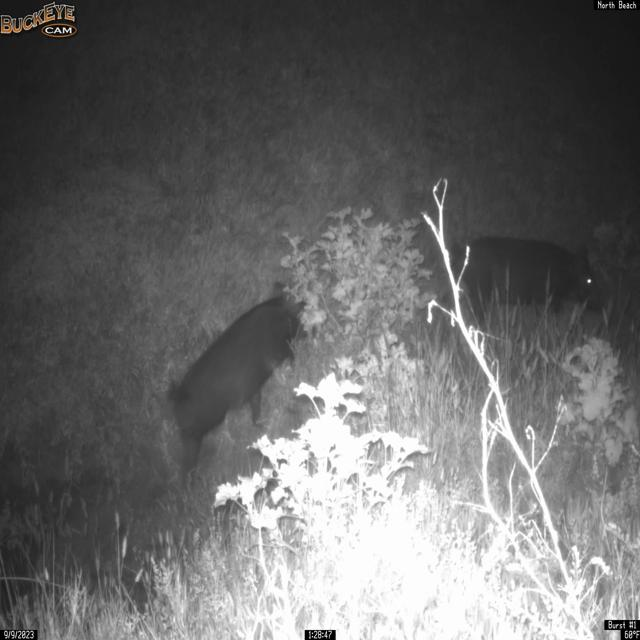pig: (166, 280, 310, 484)
